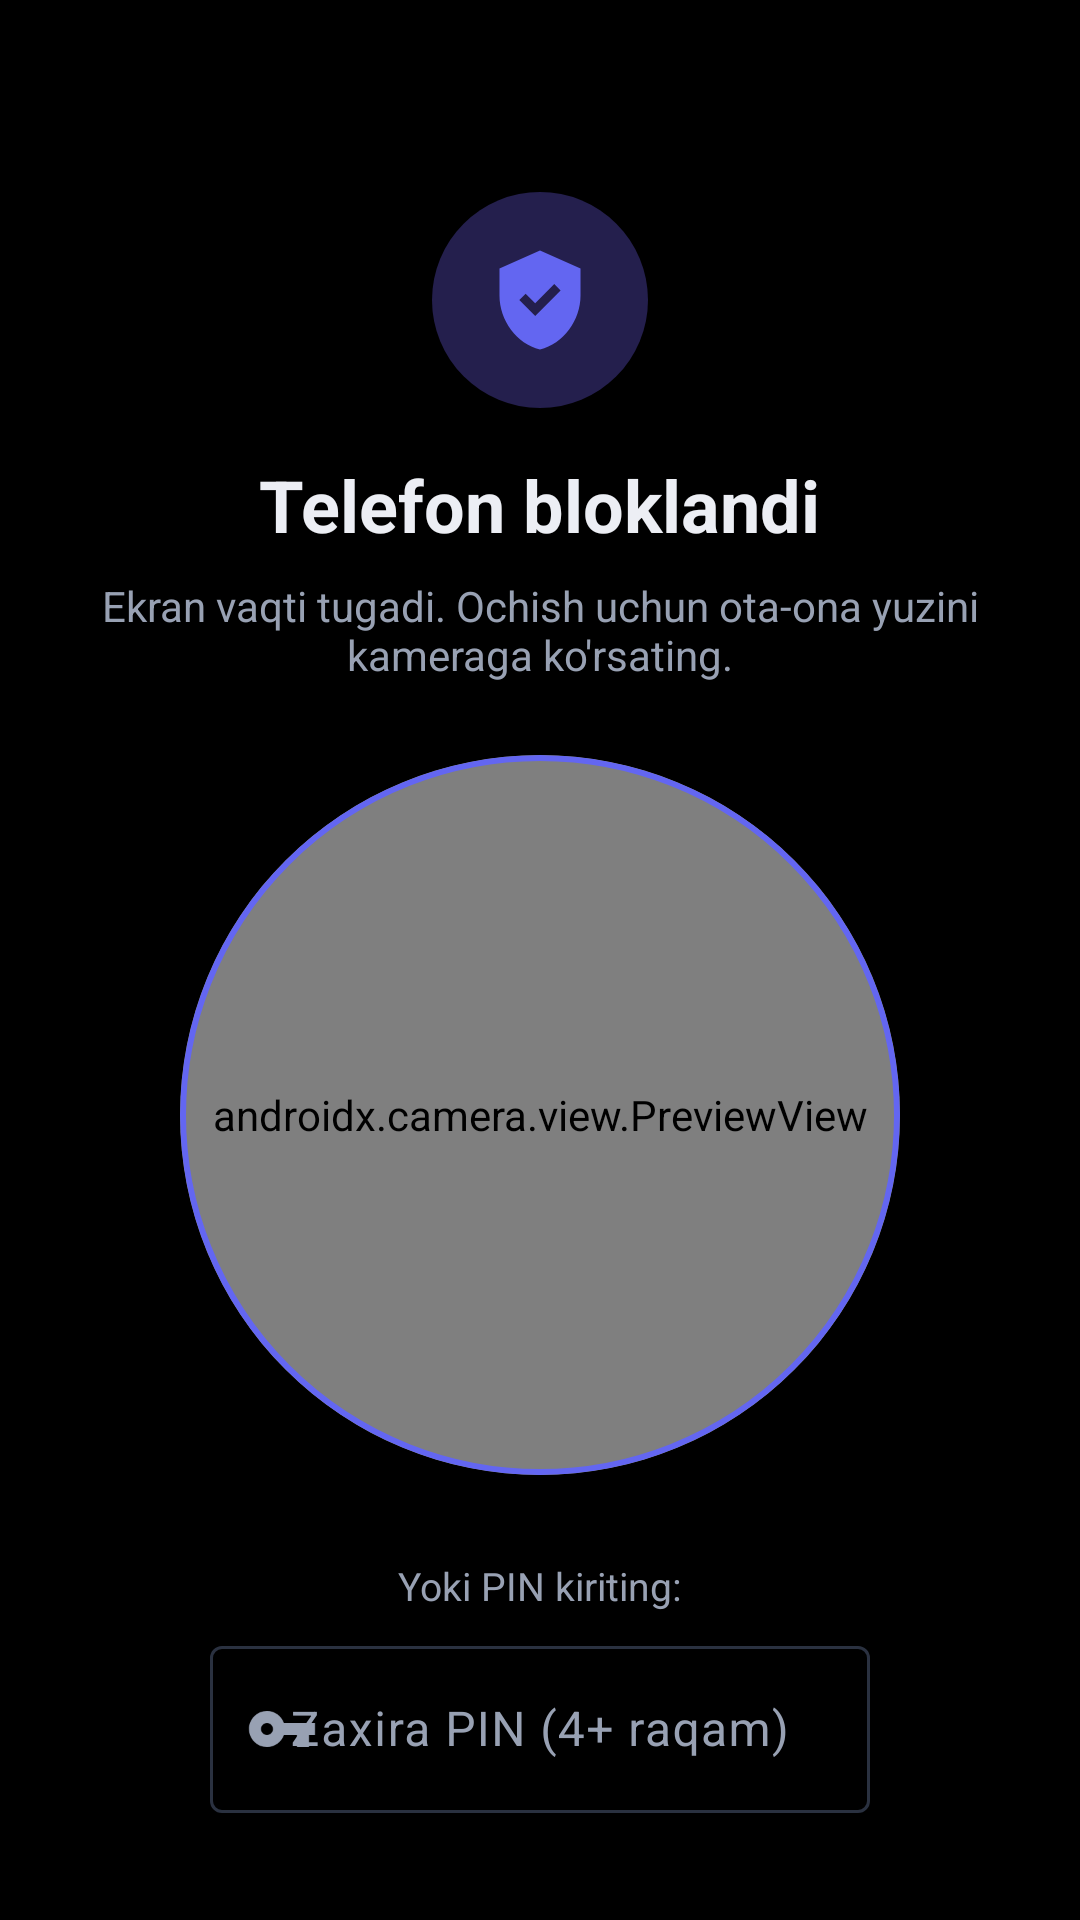

Icon bounding boxes for this 1080*1920 phone screenshot, format (x1, y1, x2, y2):
shield: (432, 192, 648, 408)
